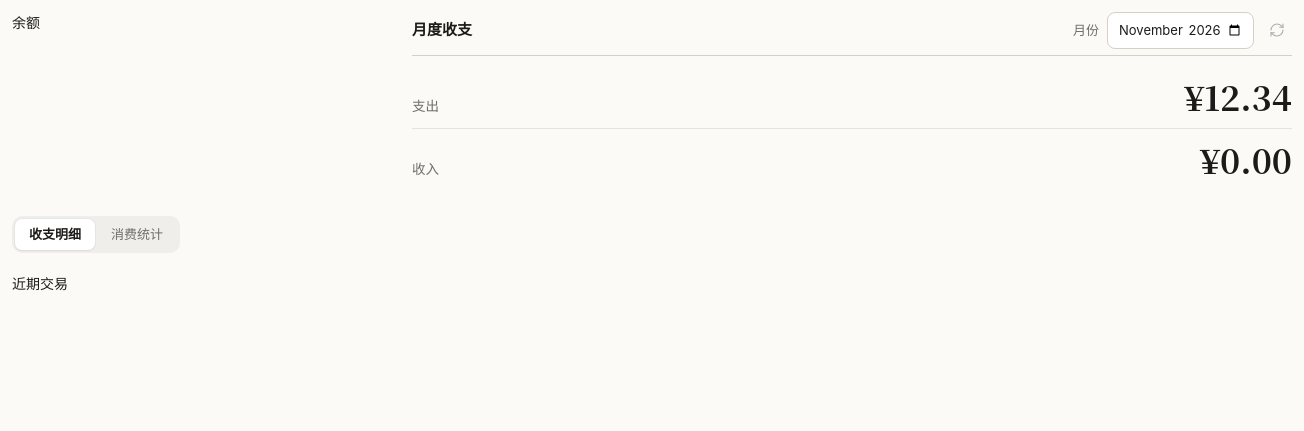
Test: keeps monthly totals readable when categories fail and requests the selected month
Later steps or results of the test are not shown.
Expected: the text "¥12.34" is shown, [1184, 76, 1292, 118]
Expected: the text "近期交易" is shown, [12, 275, 68, 292]
What coordinates should you click on to do the following:
click the button "消费统计"
I would click on:
 (137, 234)
Its box is [97, 219, 177, 250].
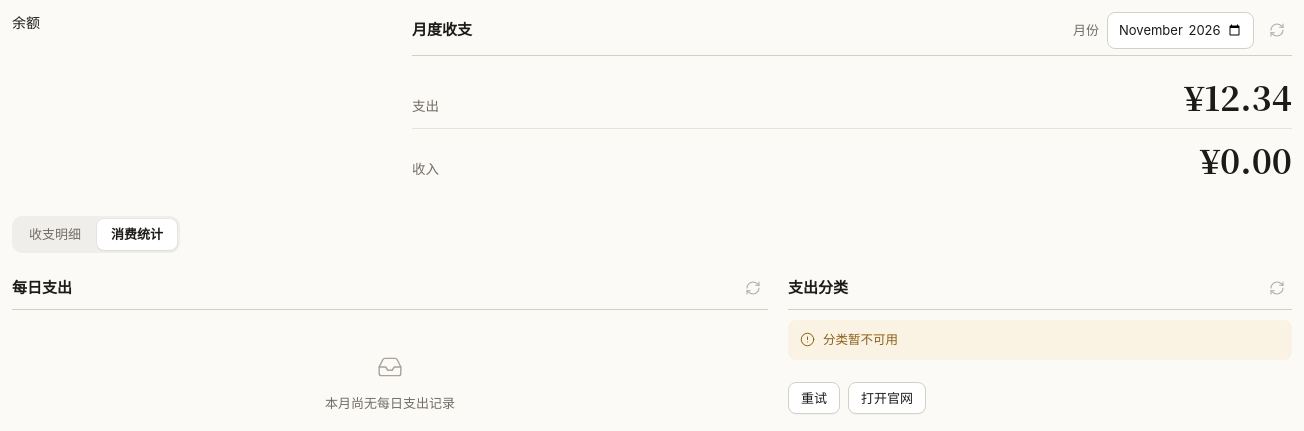
Now the text "分类暂不可用" is shown, box [823, 332, 898, 347]
